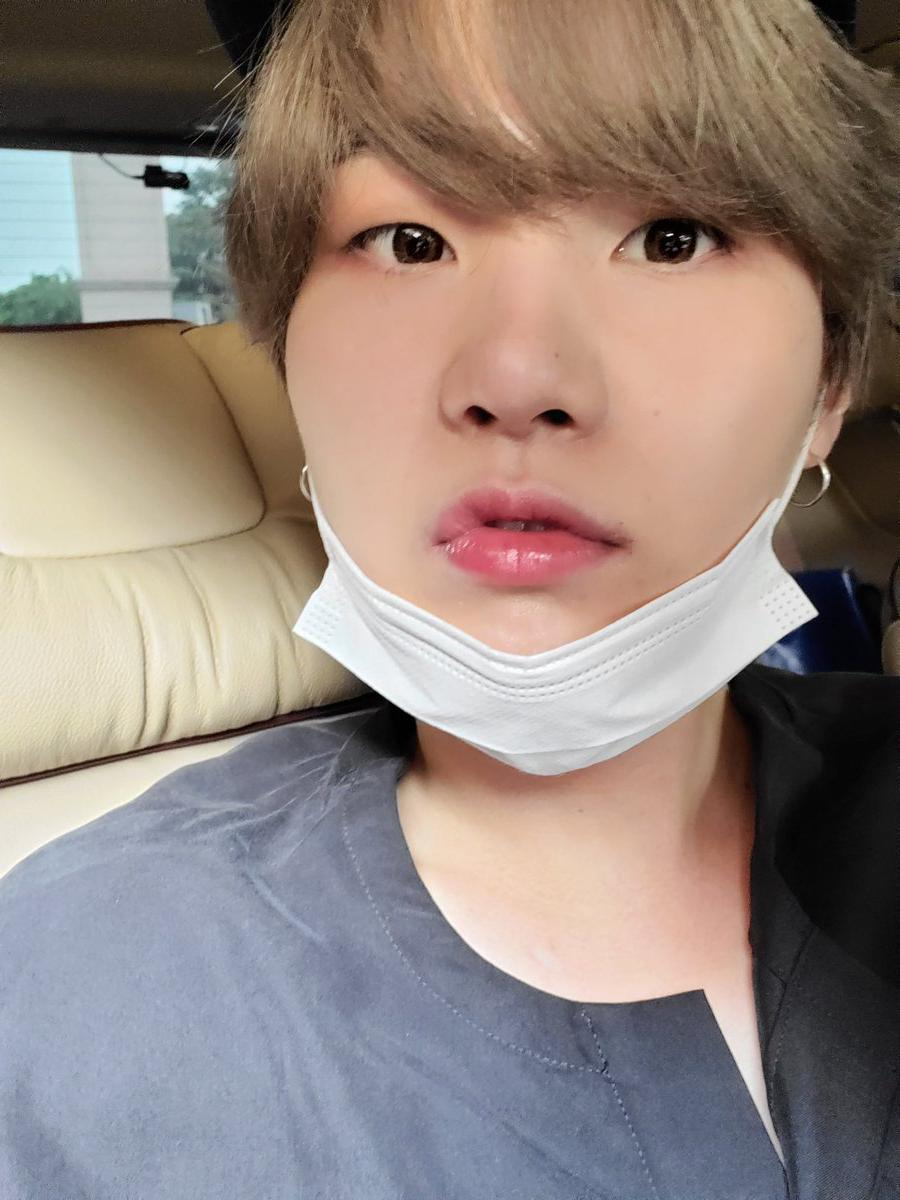mask_weared_incorrect: (280, 212, 767, 747)
